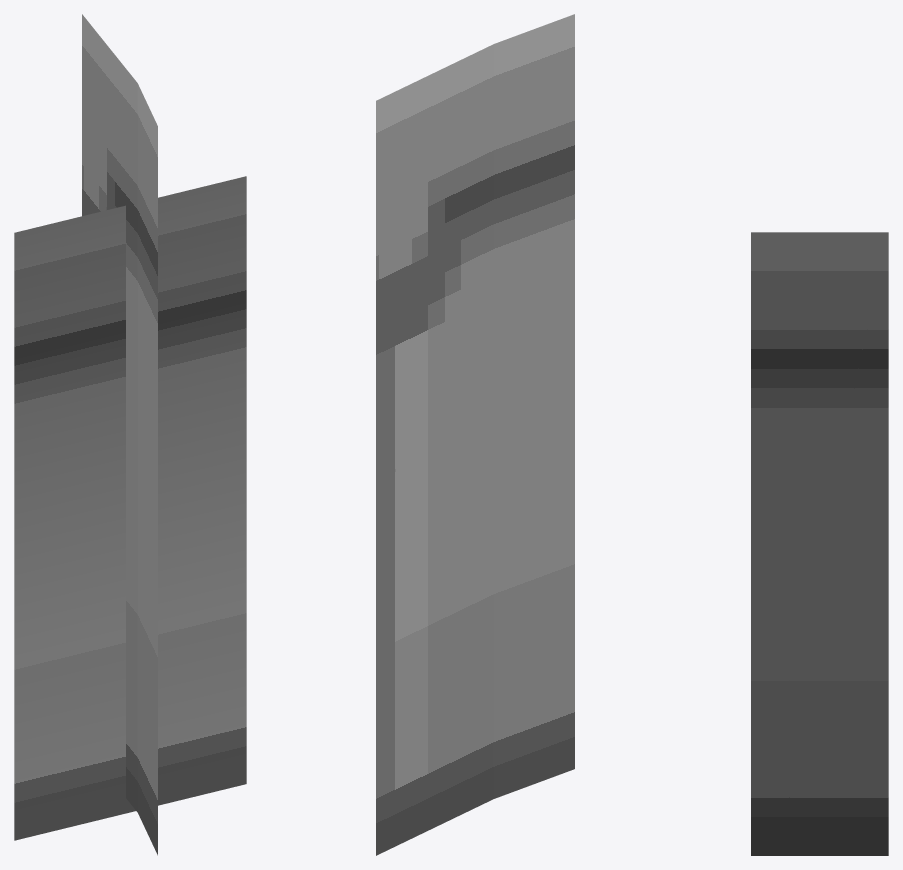
3 views of the same model, side by side, from view 1: azimuth 30°, elevation 25°; view 2: azimuth 150°, elevation 25°; view 3: azimuth 270°, elevation 25° (orthographic). The views are drawn at different scales.
Bounding box in the file's own units: 1 × 3.06 × 1.
Materials: 1 (1 with a texture image).
